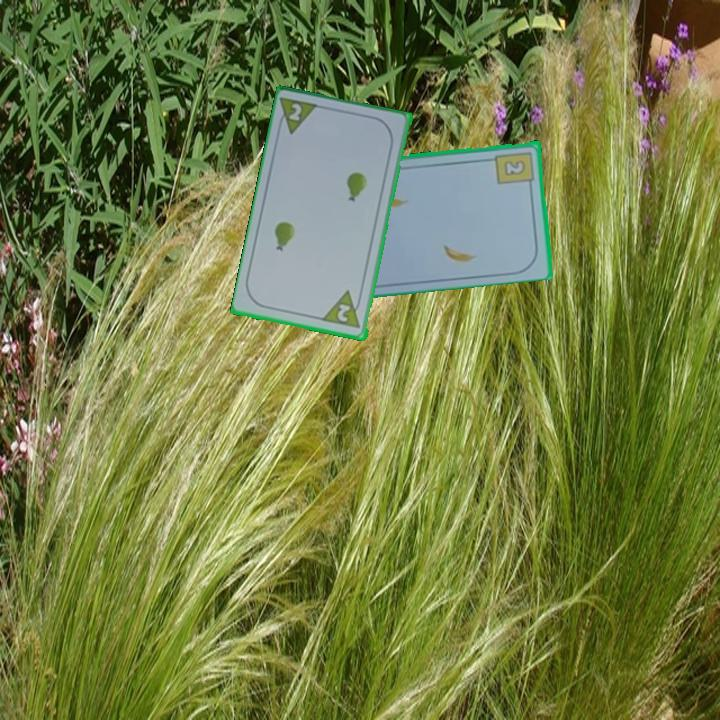2b: (492, 148, 537, 190)
2p: (334, 300, 354, 325), (286, 100, 305, 124)
